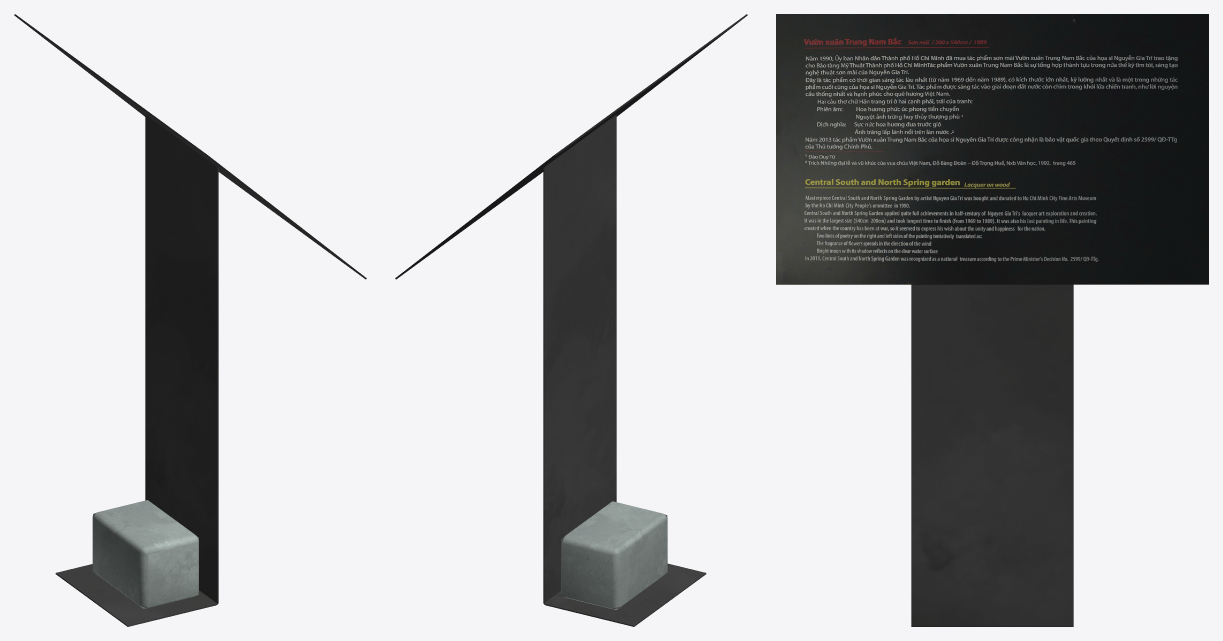
File: BTMT_PNGT_banggt.fbx
3 renders of one model, left to right at view 1: azimuth 30°, elevation 25°; view 2: azimuth 150°, elevation 25°; view 3: azimuth 270°, elevation 25°, orthographic. The views are drawn at different scales.
Visible parts, largest first — view 1: H_BTMT_PNGT_banggt_BTMT_PNGT_banggt; view 2: H_BTMT_PNGT_banggt_BTMT_PNGT_banggt; view 3: H_BTMT_PNGT_banggt_BTMT_PNGT_banggt.
Boxes of the visible parts, left/top/right/bottom form: H_BTMT_PNGT_banggt_BTMT_PNGT_banggt: left=14, top=14, right=366, bottom=626; H_BTMT_PNGT_banggt_BTMT_PNGT_banggt: left=395, top=14, right=747, bottom=626; H_BTMT_PNGT_banggt_BTMT_PNGT_banggt: left=776, top=14, right=1208, bottom=626.
Size of the model in its own units: 32.19 by 87.9 by 60.
